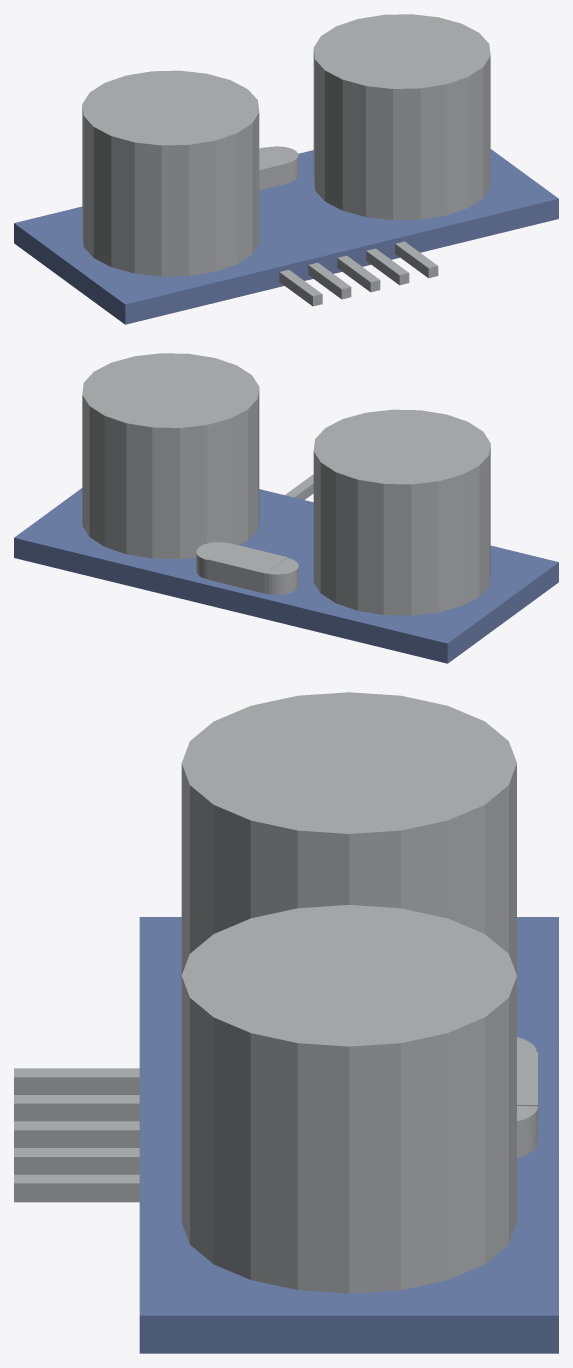
Rendered from Ultrasone.glb.
3 renders of one model, top to bottom at view 1: azimuth 30°, elevation 25°; view 2: azimuth 150°, elevation 25°; view 3: azimuth 270°, elevation 25°, orthographic. The views are drawn at different scales.
Parts seen in each view (by area): view 1: Mesh_Mesh_head_geo.001_lambert2SG.001; view 2: Mesh_Mesh_head_geo.001_lambert2SG.001; view 3: Mesh_Mesh_head_geo.001_lambert2SG.001.
Boxes of the visible parts, x1,y1,x2,y2 form: Mesh_Mesh_head_geo.001_lambert2SG.001: (14,14,558,324); Mesh_Mesh_head_geo.001_lambert2SG.001: (14,353,558,663); Mesh_Mesh_head_geo.001_lambert2SG.001: (14,692,558,1353).
Size of the model in its own units: 45 by 15 by 26.
